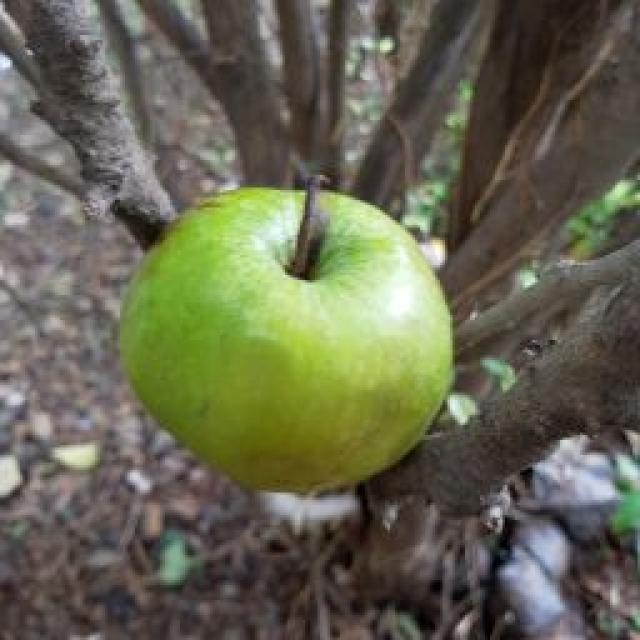Good_Apple: (121, 188, 452, 489)
